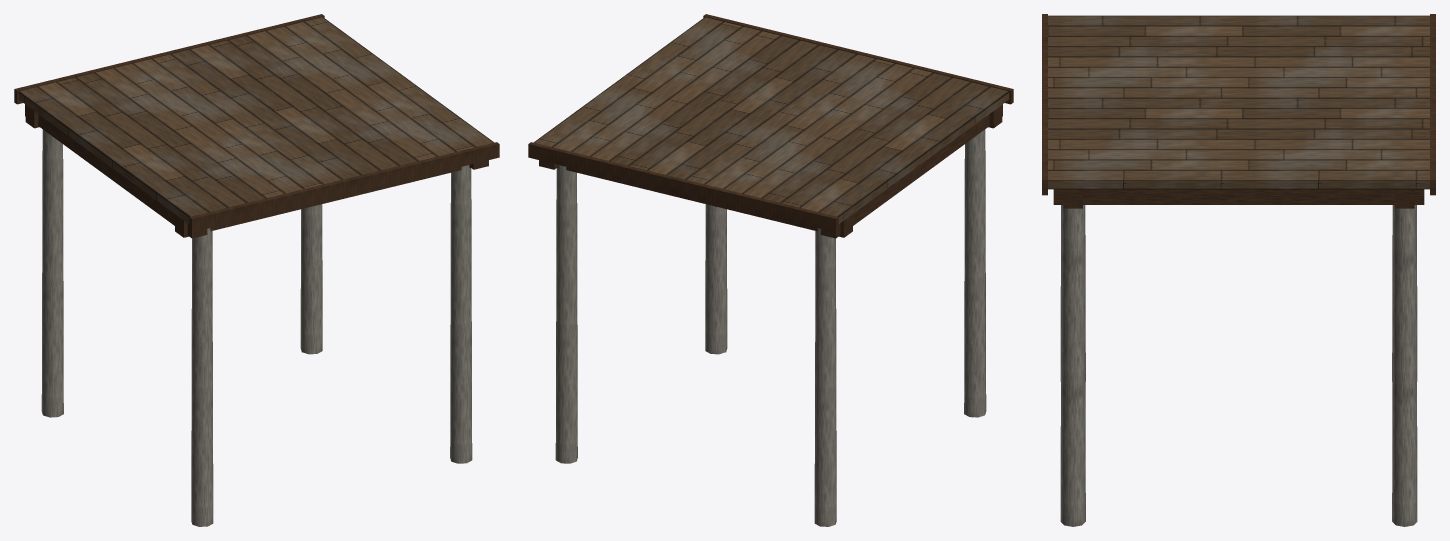
The model's file is SM_Art_Pier_400x400x100_P400.gltf.
3 views of the same model, side by side, from view 1: azimuth 30°, elevation 25°; view 2: azimuth 150°, elevation 25°; view 3: azimuth 270°, elevation 25° (orthographic). The views are drawn at different scales.
Parts seen in each view (by area): view 1: SM_Art_Pier_400x400x100_P400; view 2: SM_Art_Pier_400x400x100_P400; view 3: SM_Art_Pier_400x400x100_P400.
Boxes of the visible parts, box(x1,y1,x2,y2) form: SM_Art_Pier_400x400x100_P400: box(14, 14, 499, 526); SM_Art_Pier_400x400x100_P400: box(528, 14, 1013, 526); SM_Art_Pier_400x400x100_P400: box(1042, 14, 1435, 526).
Bounding box in the file's own units: 4.04 × 4.01 × 4.04.
Materials: 3 (3 with a texture image).
